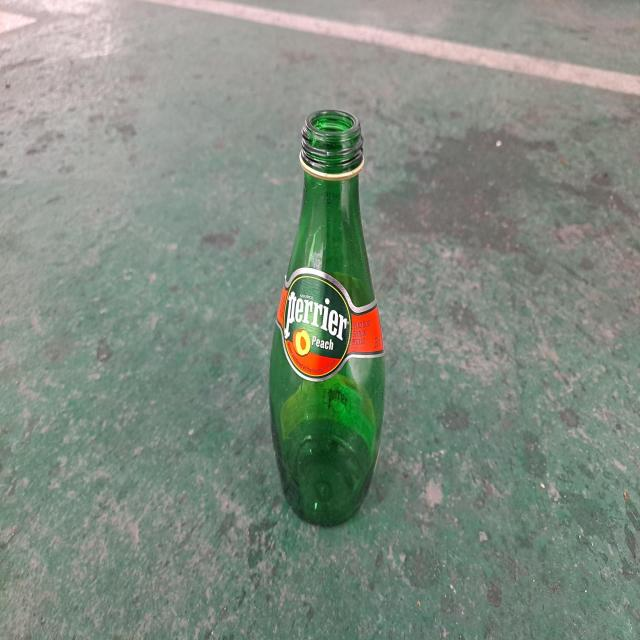glass: (270, 109, 385, 526)
